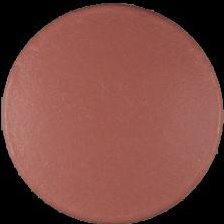50090-0687: (0, 0, 224, 224)
